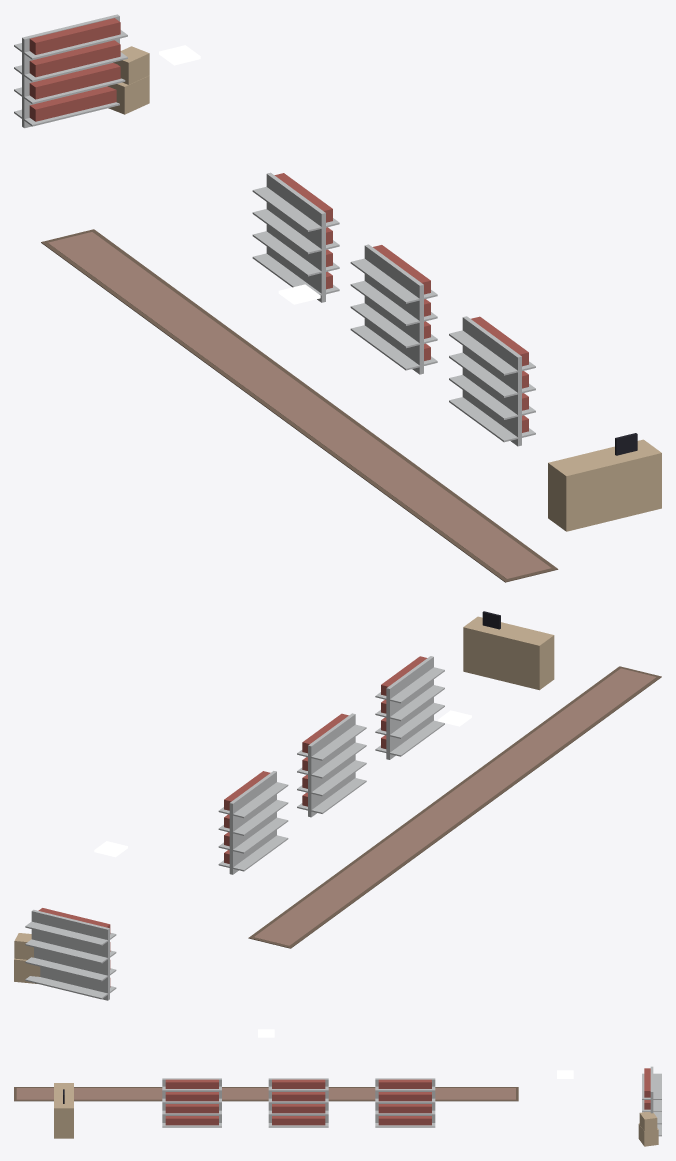
Rendered from fine-s0.glb.
3 views of the same model, one above another, from view 1: azimuth 30°, elevation 25°; view 2: azimuth 150°, elevation 25°; view 3: azimuth 270°, elevation 25° (orthographic). The views are drawn at different scales.
Visible parts, largest first — view 1: soft-s0, shelving.000, shop-counter.000, shelf.001, shelf.002, shelf.000, cardboard-box.000; view 2: soft-s0, shelving.000, shop-counter.000, shelf.001, shelf.000, shelf.002, cardboard-box.000; view 3: soft-s0, shelf.000, shelf.001, shelf.002, shop-counter.000, shelving.000, cardboard-box.000.
Part boxes in pixels (left/top/right/bottom): soft-s0: left=41, top=229, right=558, bottom=582; shelving.000: left=14, top=14, right=127, bottom=128; shop-counter.000: left=548, top=433, right=661, bottom=531; shelf.001: left=350, top=244, right=437, bottom=374; shelf.002: left=449, top=316, right=535, bottom=446; shelf.000: left=252, top=172, right=339, bottom=302; cardboard-box.000: left=108, top=46, right=149, bottom=114; soft-s0: left=248, top=666, right=661, bottom=948; shelving.000: left=25, top=908, right=116, bottom=1000; shop-counter.000: left=463, top=611, right=554, bottom=690; shelf.001: left=297, top=713, right=366, bottom=817; shelf.000: left=218, top=771, right=288, bottom=874; shelf.002: left=375, top=656, right=444, bottom=759; cardboard-box.000: left=14, top=933, right=40, bottom=983; soft-s0: left=14, top=1087, right=518, bottom=1101; shelf.000: left=375, top=1078, right=435, bottom=1127; shelf.001: left=268, top=1078, right=328, bottom=1127; shelf.002: left=162, top=1078, right=221, bottom=1127; shop-counter.000: left=54, top=1083, right=73, bottom=1138; shelving.000: left=642, top=1066, right=661, bottom=1136; cardboard-box.000: left=638, top=1112, right=658, bottom=1146.
Bounding box in the file's own units: 4.23 × 2.03 × 19.45.
